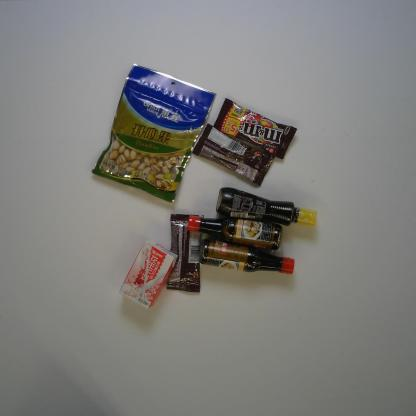Chocolate: (191, 122, 277, 187), (214, 96, 298, 160), (166, 212, 204, 294)
Dried Fruit: (89, 62, 218, 204)
Milk: (119, 239, 178, 309)
Seasoner: (215, 186, 318, 227), (186, 214, 284, 251), (198, 238, 295, 275)
